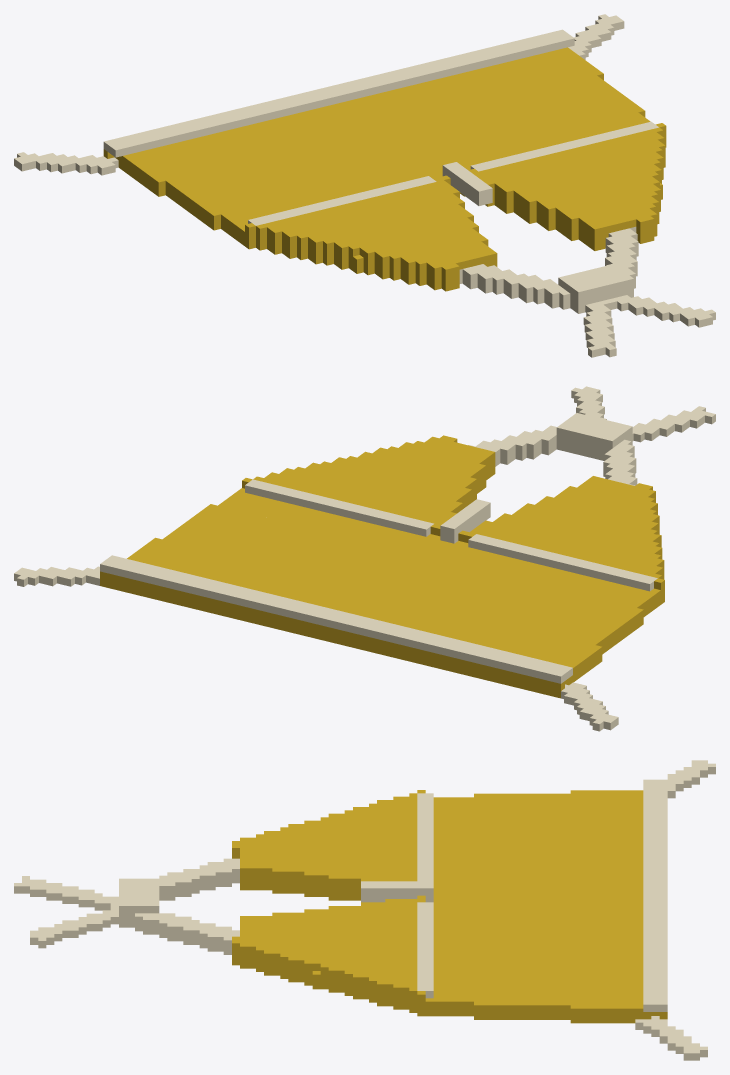
File: halter_top.glb
The picture shows the model from 3 angles, top to bottom: view 1: azimuth 30°, elevation 25°; view 2: azimuth 150°, elevation 25°; view 3: azimuth 270°, elevation 25°; orthographic projection.
Parts seen in each view (by area): view 1: halter_top:compound; view 2: halter_top:compound; view 3: halter_top:compound.
Boxes of the visible parts, <box> form: halter_top:compound: <box>14,14,715,357</box>; halter_top:compound: <box>14,386,715,731</box>; halter_top:compound: <box>14,760,715,1060</box>.
Size of the model in its own units: 0.344 by 0.016 by 0.348.
